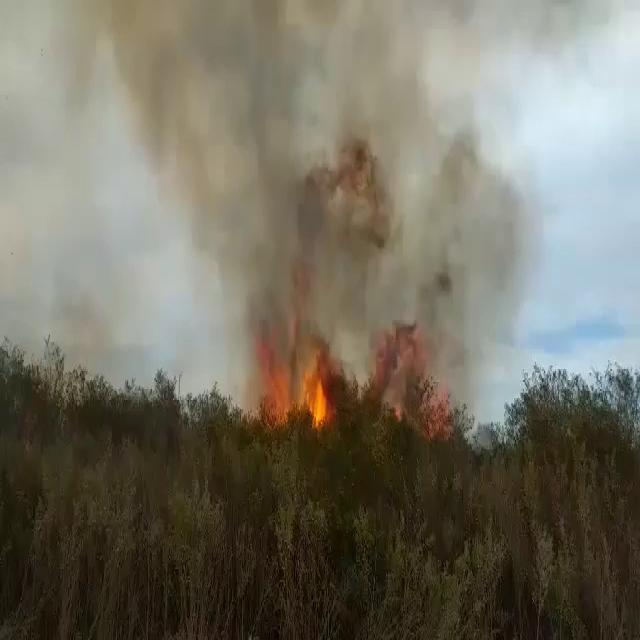Fire: (252, 320, 450, 436)
Smoke: (107, 0, 538, 311)
